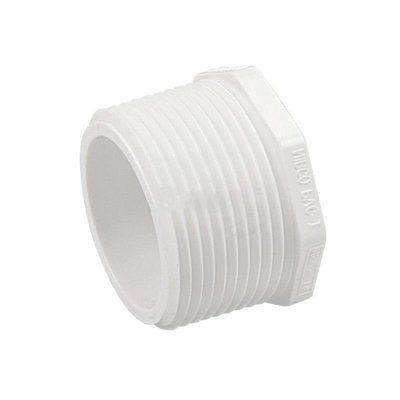PVC: (78, 65, 324, 329)
